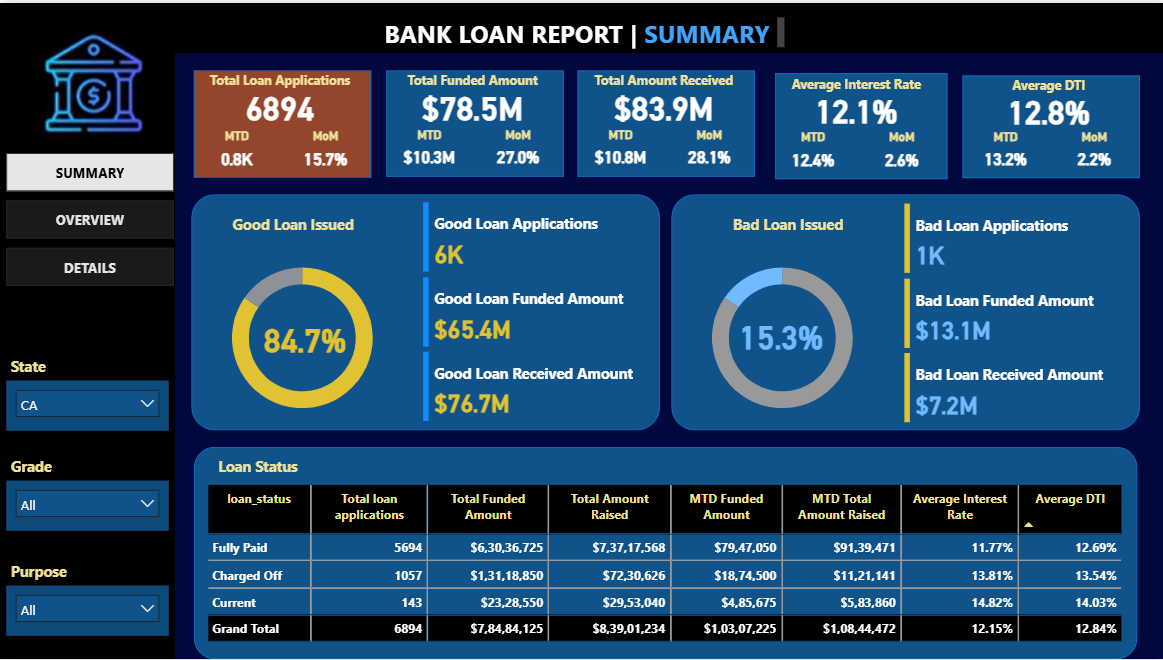

What the dashboard file says about the page in this screenshot:
{"tool":"powerbi","page":{"name":"SUMMARY","canvas":[1280,720],"ordinal":0},"visuals":[{"type":"shape","box":[0,54.9,192,665.5],"z":0},{"type":"shape","box":[212.2,74.5,194.9,118],"z":0,"group":"g1"},{"type":"shape","box":[423.2,75,194.9,116.6],"z":0,"group":"g2"},{"type":"shape","box":[634.2,75,194.9,116.6],"z":0,"group":"g3"},{"type":"shape","box":[851.1,76.2,189.4,116.6],"z":0,"group":"g4"},{"type":"shape","box":[1056.2,79.8,194.9,112.7],"z":0,"group":"g5"},{"type":"shape","box":[0,0,1280.3,55],"z":1000},{"type":"card","fields":{"Values":["Bank_Loan_Data.Total_loan_applications"]},"box":[209.9,86.7,194.9,54.1],"z":1000,"group":"g1"},{"type":"card","fields":{"Values":["Bank_Loan_Data.Total Funded Amount"]},"box":[420.9,87,194.9,53.5],"z":1000,"group":"g2"},{"type":"card","fields":{"Values":["Bank_Loan_Data.Total Amount Raised"]},"box":[631.9,87,194.9,53.5],"z":1000,"group":"g3"},{"type":"card","fields":{"Values":["Bank_Loan_Data.Average Interest Rate"]},"box":[842.9,90.4,194.9,52.9],"z":1000,"group":"g4"},{"type":"card","fields":{"Values":["Bank_Loan_Data.Average DTI"]},"box":[1053.9,91.4,194.9,51.7],"z":1000,"group":"g5"},{"type":"textbox","box":[209.9,70,194.9,31.9],"z":2000,"group":"g1"},{"type":"textbox","box":[420.9,70.5,194.9,31.6],"z":2000,"group":"g2"},{"type":"textbox","box":[631.9,70.5,194.9,31.6],"z":2000,"group":"g3"},{"type":"textbox","box":[842.9,74.1,194.9,31.2],"z":2000,"group":"g4"},{"type":"textbox","box":[1053.9,75.5,194.9,30.5],"z":2000,"group":"g5"},{"type":"shape","box":[736.9,209.9,514.6,259.3],"z":2000},{"type":"card","title":"MTD","fields":{"Values":["Bank_Loan_Data.MTD Funded Amount"]},"box":[436,137.7,70,49.4],"z":3000,"group":"g2"},{"type":"card","title":"MTD","fields":{"Values":["Bank_Loan_Data.MTD Amount Raised"]},"box":[647,137.7,70,49.4],"z":3000,"group":"g3"},{"type":"card","title":"MTD","fields":{"Values":["Bank_Loan_Data.MTD Loan Applications"]},"box":[225,138,70,50],"z":3000,"group":"g1"},{"type":"card","title":"MTD","fields":{"Values":["Bank_Loan_Data.MTD Average DTI"]},"box":[1069,140.4,70,47.7],"z":3000,"group":"g5"},{"type":"card","title":"MTD","fields":{"Values":["Bank_Loan_Data.MTD Average Interest Rate"]},"box":[858,140.6,70,48.8],"z":3000,"group":"g4"},{"type":"card","fields":{"Values":["Bank_Loan_Data.Bad Loan %"]},"box":[800,341.7,115.3,46.7],"z":3000},{"type":"textbox","box":[417.2,11,448.7,43.9],"z":4000},{"type":"card","title":"MoM","fields":{"Values":["Bank_Loan_Data.MoM Funded Amount"]},"box":[533.4,137.7,70,49.4],"z":4000,"group":"g2"},{"type":"card","title":"MoM","fields":{"Values":["Bank_Loan_Data.MoM Amount Received"]},"box":[744.4,137.7,70,49.4],"z":4000,"group":"g3"},{"type":"card","title":"MoM","fields":{"Values":["Bank_Loan_Data.MoM Loan Applications"]},"box":[322.4,138,70,50],"z":4000,"group":"g1"},{"type":"card","title":"MoM","fields":{"Values":["Bank_Loan_Data.Mom Average DTI"]},"box":[1166.4,140.4,70,47.7],"z":4000,"group":"g5"},{"type":"card","title":"MoM","fields":{"Values":["Bank_Loan_Data.MoM Average Interest Rate"]},"box":[955.4,140.6,70,48.8],"z":4000,"group":"g4"},{"type":"shape","box":[209.9,209.9,514.6,259.3],"z":5000},{"type":"textbox","box":[230.5,226.4,182.5,31.6],"z":6000},{"type":"group","id":"g1","title":"Group 1","box":[209.9,70,197.6,122.1],"z":7000},{"type":"group","id":"g2","title":"Group 1","box":[420.9,70.5,197.6,120.8],"z":8000},{"type":"group","id":"g3","title":"Group 1","box":[631.9,70.5,197.6,120.8],"z":9000},{"type":"donutChart","fields":{"Category":["Bank_Loan_Data.Good v Bad Loan Status"],"Y":["CountNonNull(Bank_Loan_Data.loan_status)"]},"box":[736.9,266.2,244.3,203.1],"z":10000},{"type":"group","id":"g4","title":"Group 1","box":[842.9,74.1,197.6,119.4],"z":11000},{"type":"group","id":"g5","title":"Group 1","box":[1053.9,75.5,197.6,116.6],"z":12000},{"type":"donutChart","fields":{"Category":["Bank_Loan_Data.Good v Bad Loan Status"],"Y":["CountNonNull(Bank_Loan_Data.loan_status)"]},"box":[209.9,266.2,244.3,203.1],"z":13000},{"type":"textbox","box":[773.9,226.4,182.5,31.6],"z":14000},{"type":"card","fields":{"Values":["Bank_Loan_Data.Good Loan %"]},"box":[277.2,341.7,115.3,52.1],"z":15000},{"type":"cardVisual","fields":{"Data":["Bank_Loan_Data.Good Loan Applications","Bank_Loan_Data.Good Loan Funded Amount","Bank_Loan_Data.Good Loan Received Amount"]},"box":[459.7,214.1,256.6,251.1],"z":16000},{"type":"shape","box":[212.7,487.1,1036,233.3],"z":17000},{"type":"cardVisual","fields":{"Data":["Bank_Loan_Data.Bad Loan Applications","Bank_Loan_Data.Bad Loan Funded Amount","Bank_Loan_Data.Bad Loan Received Amount"]},"box":[988,215.4,256.6,251.1],"z":18000},{"type":"tableEx","fields":{"Values":["Bank_Loan_Data.loan_status","Bank_Loan_Data.Total_loan_applications","Bank_Loan_Data.Total Funded Amount","Bank_Loan_Data.Total Amount Raised","Bank_Loan_Data.MTD Funded Amount","Bank_Loan_Data.MTD Total Amount Raised","Bank_Loan_Data.Average Interest Rate","Bank_Loan_Data.Average DTI"]},"box":[222.3,524.2,1014.1,196.2],"z":19000},{"type":"textbox","box":[234.6,492.6,182.5,31.6],"z":20000},{"type":"slicer","fields":{"Values":["Bank_Loan_Data.address_state"]},"box":[6.9,414.4,178.4,54.9],"z":21000},{"type":"slicer","fields":{"Values":["Bank_Loan_Data.grade"]},"box":[6.9,524.2,178.4,54.9],"z":22000},{"type":"slicer","fields":{"Values":["Bank_Loan_Data.purpose"]},"box":[6.9,639.5,178.4,54.9],"z":23000},{"type":"textbox","box":[6.9,382.8,156.4,31.6],"z":24000},{"type":"textbox","box":[6.9,492.6,156.4,31.6],"z":25000},{"type":"textbox","box":[6.9,607.9,156.4,31.6],"z":26000},{"type":"image","box":[10,10,184.7,162.5],"z":26001},{"type":"pageNavigator","box":[6.9,165.3,184.7,147.2],"z":26002}]}

Visuals, with their boxes in screenshot pixels (x1, y1, x2, y2), scaled from the page's 1280x720 canvas onto the 1163x660 screenshot:
shape: <region>0, 50, 174, 659</region>
shape: <region>193, 68, 370, 176</region>
shape: <region>385, 69, 562, 176</region>
shape: <region>576, 69, 753, 176</region>
shape: <region>773, 70, 945, 177</region>
shape: <region>960, 73, 1137, 176</region>
shape: <region>0, 0, 1162, 50</region>
card - Bank_Loan_Data.Total_loan_applications: <region>191, 79, 368, 129</region>
card - Bank_Loan_Data.Total Funded Amount: <region>382, 80, 560, 129</region>
card - Bank_Loan_Data.Total Amount Raised: <region>574, 80, 751, 129</region>
card - Bank_Loan_Data.Average Interest Rate: <region>766, 83, 943, 131</region>
card - Bank_Loan_Data.Average DTI: <region>958, 84, 1135, 131</region>
textbox: <region>191, 64, 368, 93</region>
textbox: <region>382, 65, 560, 94</region>
textbox: <region>574, 65, 751, 94</region>
textbox: <region>766, 68, 943, 97</region>
textbox: <region>958, 69, 1135, 97</region>
shape: <region>670, 192, 1137, 430</region>
"MTD" card: <region>396, 126, 460, 172</region>
"MTD" card: <region>588, 126, 651, 172</region>
"MTD" card: <region>204, 126, 268, 172</region>
"MTD" card: <region>971, 129, 1035, 172</region>
"MTD" card: <region>780, 129, 843, 174</region>
card - Bank_Loan_Data.Bad Loan %: <region>727, 313, 832, 356</region>
textbox: <region>379, 10, 787, 50</region>
"MoM" card: <region>485, 126, 548, 172</region>
"MoM" card: <region>676, 126, 740, 172</region>
"MoM" card: <region>293, 126, 357, 172</region>
"MoM" card: <region>1060, 129, 1123, 172</region>
"MoM" card: <region>868, 129, 932, 174</region>
shape: <region>191, 192, 658, 430</region>
textbox: <region>209, 208, 375, 236</region>
"Group 1" group: <region>191, 64, 370, 176</region>
"Group 1" group: <region>382, 65, 562, 175</region>
"Group 1" group: <region>574, 65, 754, 175</region>
donutChart - Bank_Loan_Data.Good v Bad Loan Status x CountNonNull(Bank_Loan_Data.loan_status): <region>670, 244, 892, 430</region>
"Group 1" group: <region>766, 68, 945, 177</region>
"Group 1" group: <region>958, 69, 1137, 176</region>
donutChart - Bank_Loan_Data.Good v Bad Loan Status x CountNonNull(Bank_Loan_Data.loan_status): <region>191, 244, 413, 430</region>
textbox: <region>703, 208, 869, 236</region>
card - Bank_Loan_Data.Good Loan %: <region>252, 313, 357, 361</region>
cardVisual - Bank_Loan_Data.Good Loan Applications x Bank_Loan_Data.Good Loan Funded Amount: <region>418, 196, 651, 426</region>
shape: <region>193, 447, 1135, 659</region>
cardVisual - Bank_Loan_Data.Bad Loan Applications x Bank_Loan_Data.Bad Loan Funded Amount: <region>898, 197, 1131, 428</region>
tableEx - Bank_Loan_Data.loan_status x Bank_Loan_Data.Total_loan_applications: <region>202, 481, 1123, 659</region>
textbox: <region>213, 452, 379, 481</region>
slicer - Bank_Loan_Data.address_state: <region>6, 380, 168, 430</region>
slicer - Bank_Loan_Data.grade: <region>6, 481, 168, 531</region>
slicer - Bank_Loan_Data.purpose: <region>6, 586, 168, 637</region>
textbox: <region>6, 351, 148, 380</region>
textbox: <region>6, 452, 148, 481</region>
textbox: <region>6, 557, 148, 586</region>
image: <region>9, 9, 177, 158</region>
pageNavigator: <region>6, 152, 174, 286</region>
